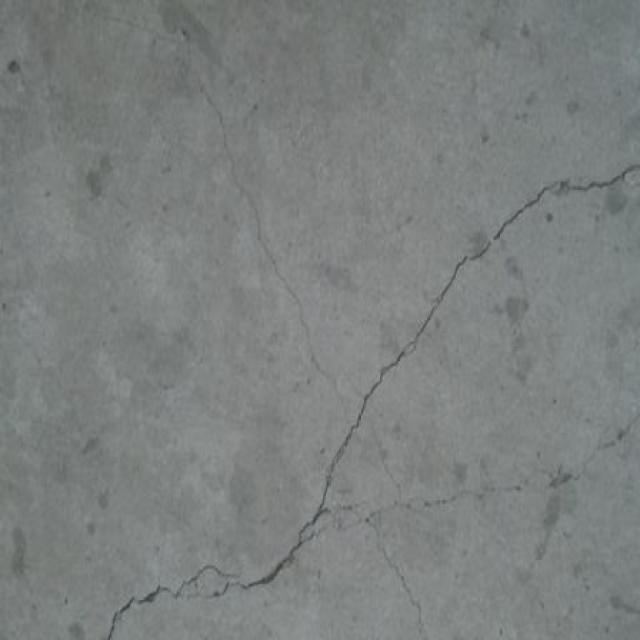Diagonal Crack: (100, 148, 640, 640), (88, 0, 335, 401)
